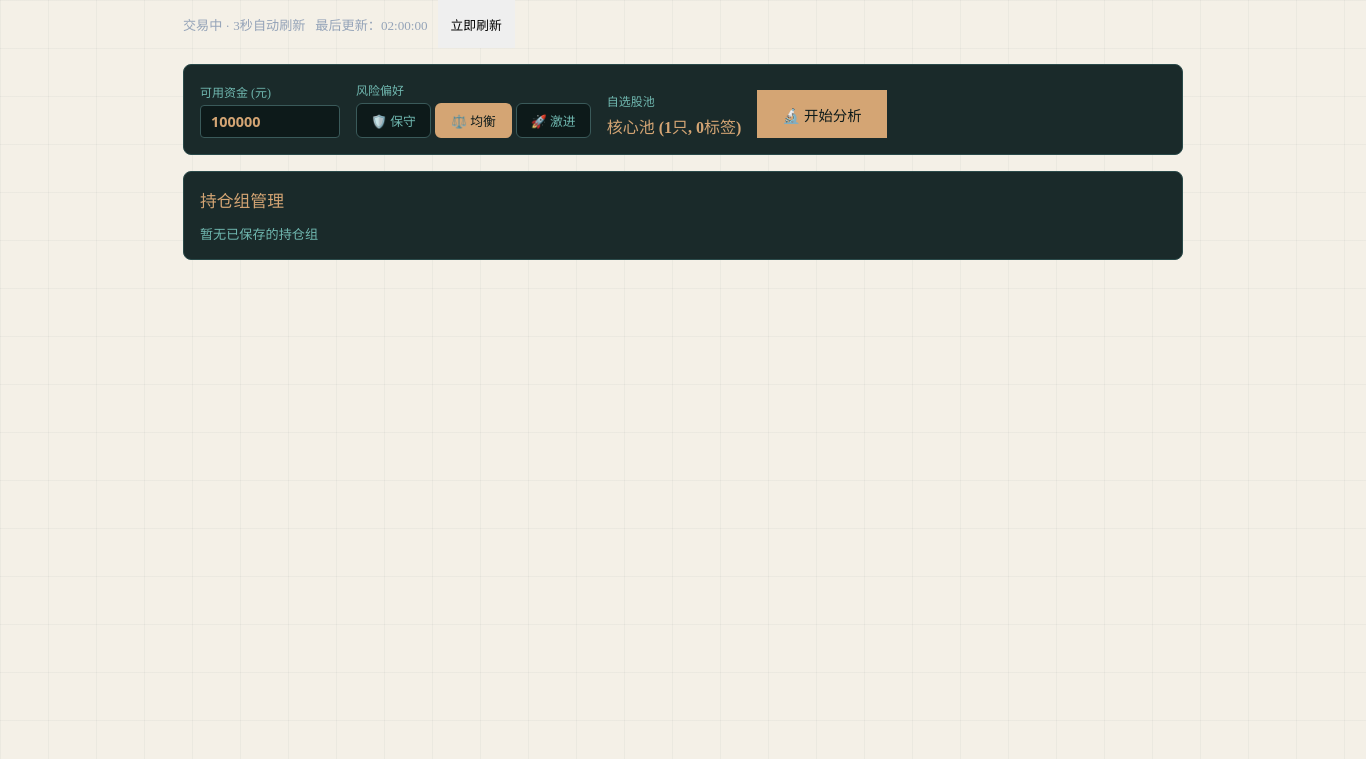
Scenario: AiPortfolioAllocationWorkspace portfolio groups › saves a new group without requiring an AI review
The width and height of the screenshot is (1366, 759).
Expected: the heading "保存到持仓组" is not shown
Click the button "🔬 开始分析" at (822, 114), box x1=757 y1=90 x2=887 y2=138
(page scrolled)
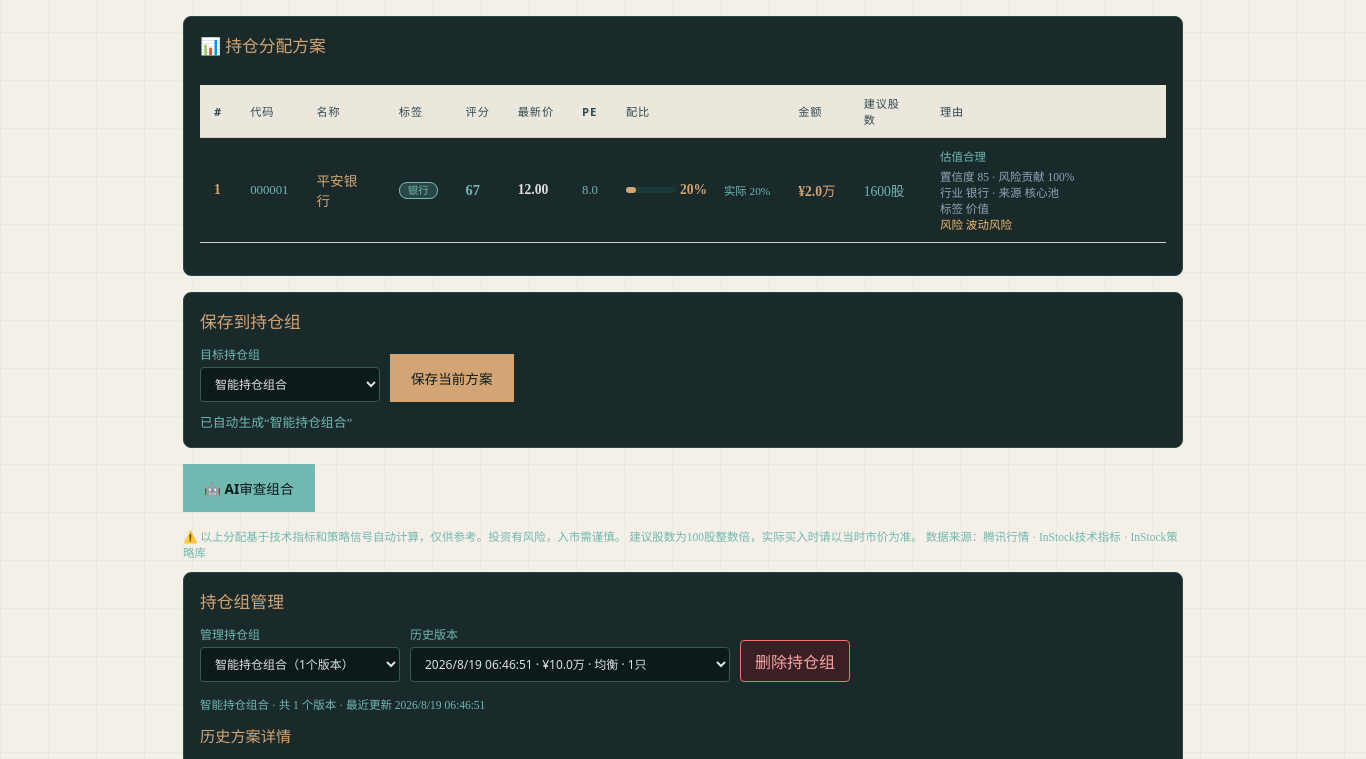
Expected: the heading "保存到持仓组" is shown, x1=200 y1=313 x2=301 y2=332
Select "新建持仓组" in the dropdown labelled "目标持仓组" at (290, 384), box x1=200 y1=367 x2=380 y2=402
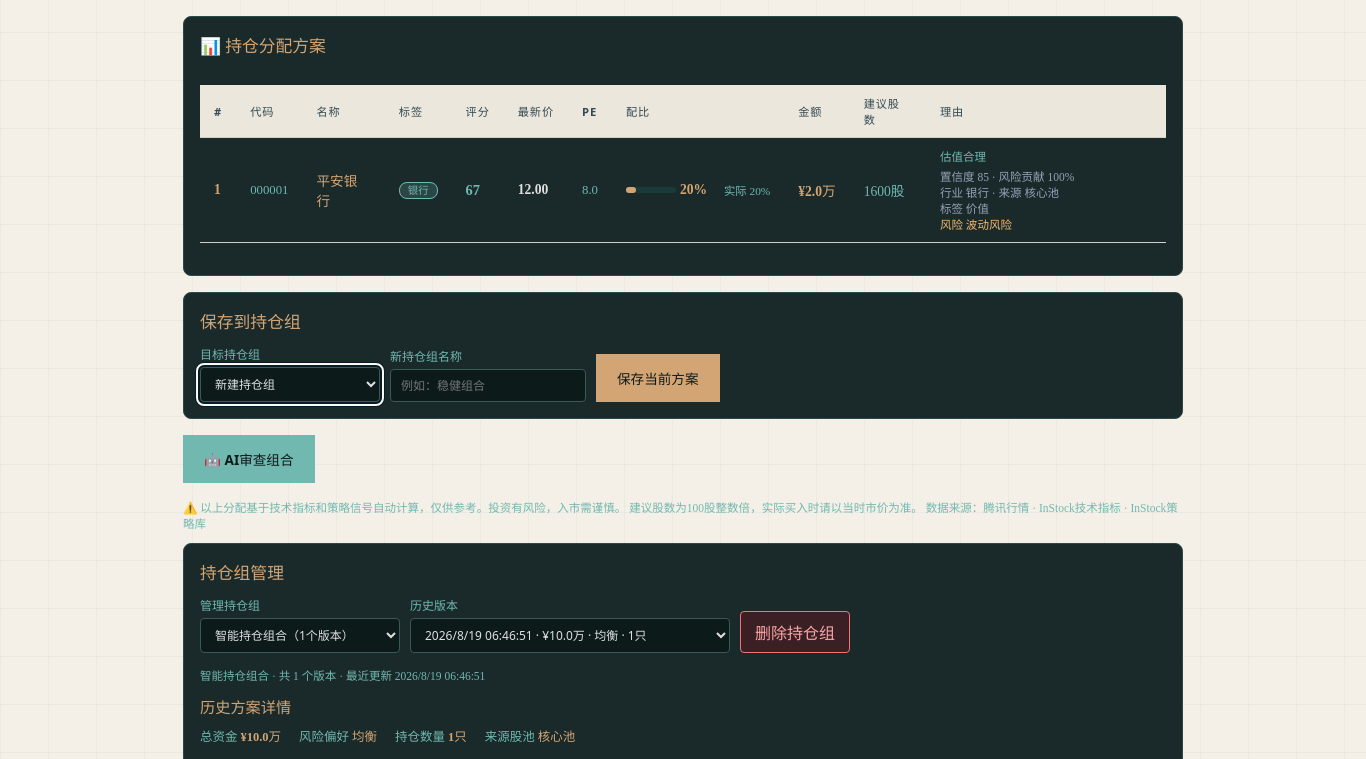
Type "稳健组合" into the field labelled "新持仓组名称" at (488, 386), box x1=390 y1=369 x2=586 y2=402
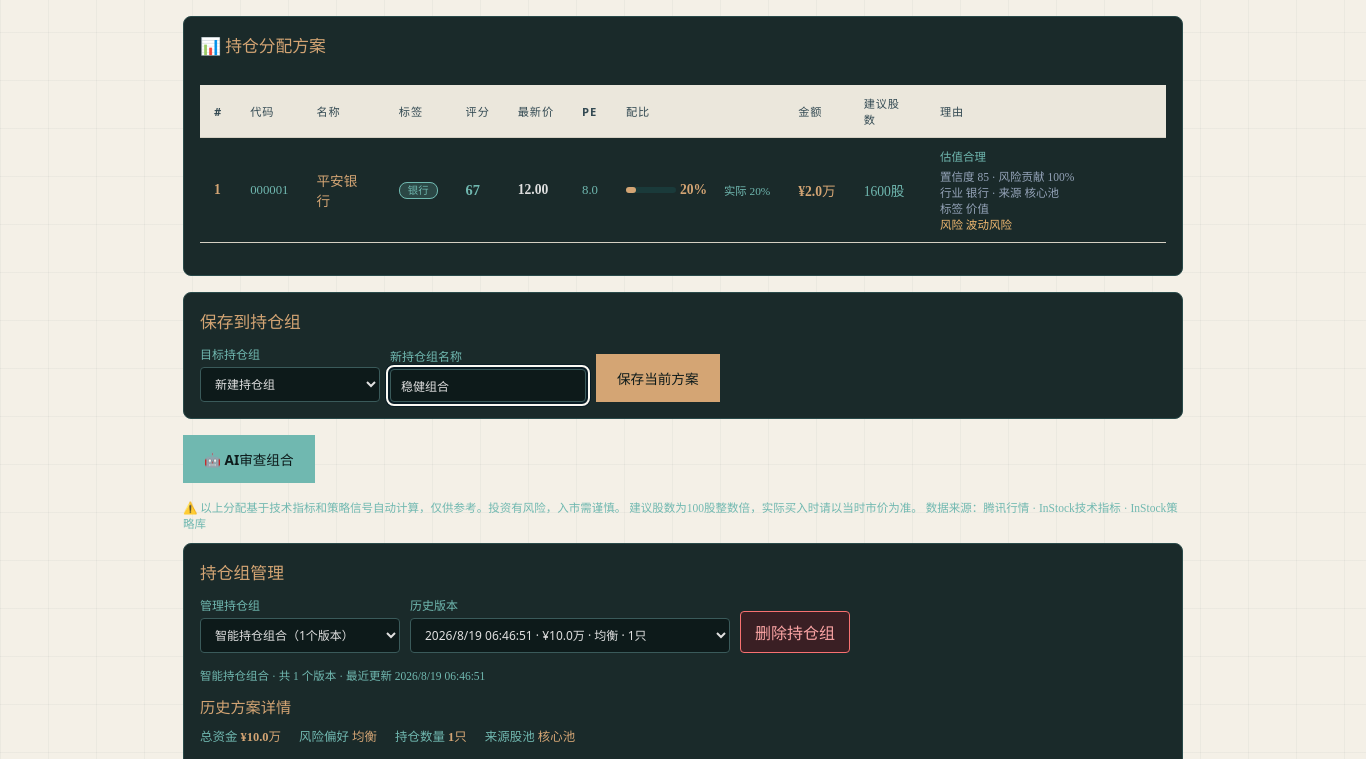
Click the button "保存当前方案" at (658, 378), box x1=596 y1=354 x2=720 y2=402
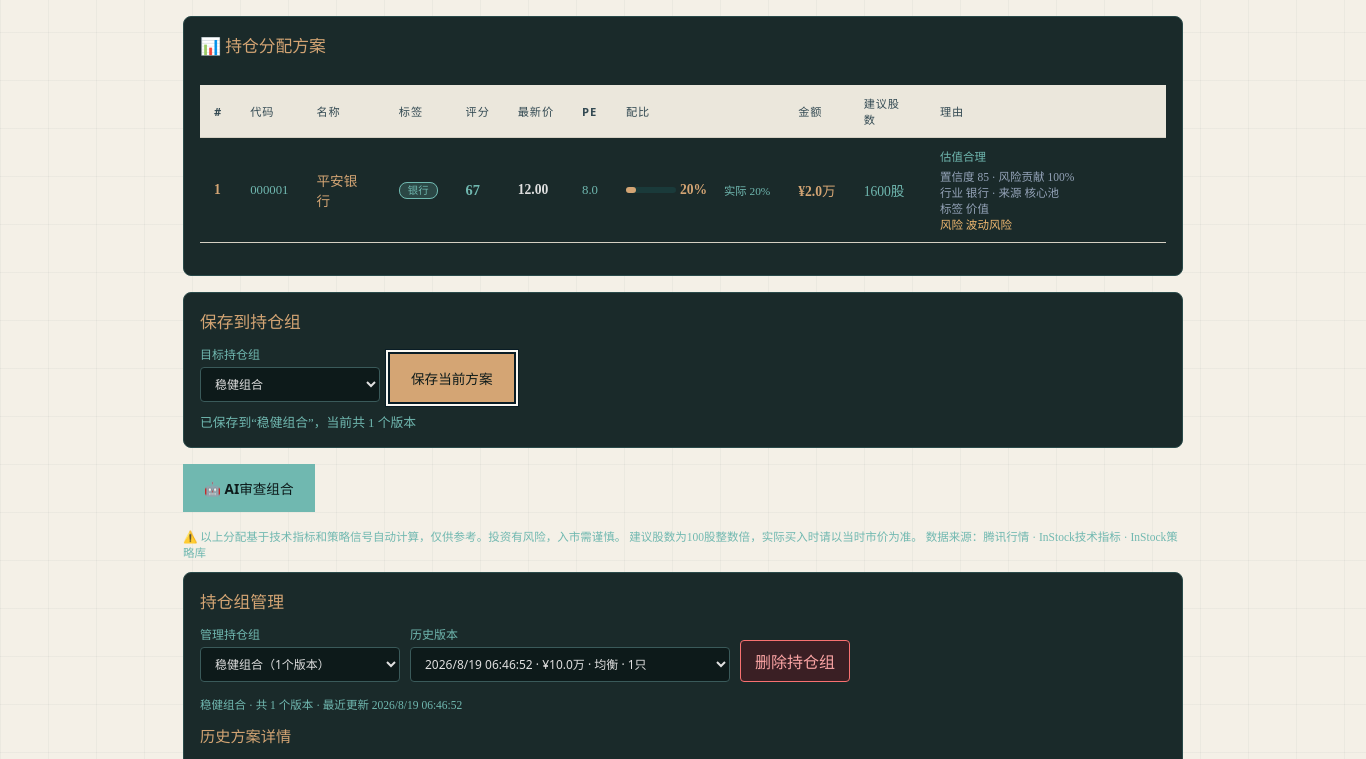
Expected: the text "已保存到“稳健组合”，当前共 1 个版本" is shown, x1=200 y1=416 x2=416 y2=430
